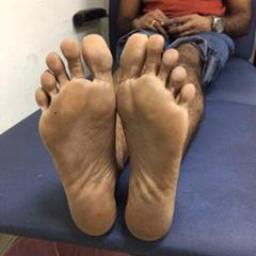Plantar View -Both Feet-: (27, 24, 197, 246)
